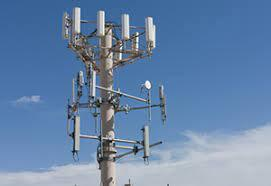Microwave Antenna: (158, 84, 170, 124), (142, 79, 158, 94)
antenna: (139, 15, 154, 45), (139, 125, 152, 159), (97, 8, 109, 41), (72, 113, 82, 152), (71, 3, 82, 36), (120, 12, 131, 40), (89, 70, 96, 102)
